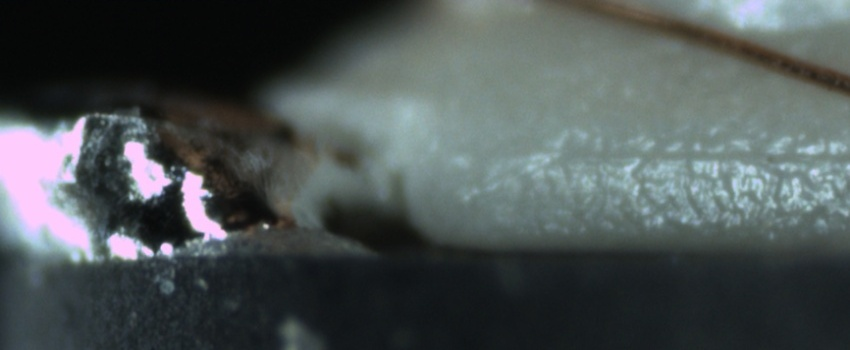DL: (557, 124, 850, 187)
